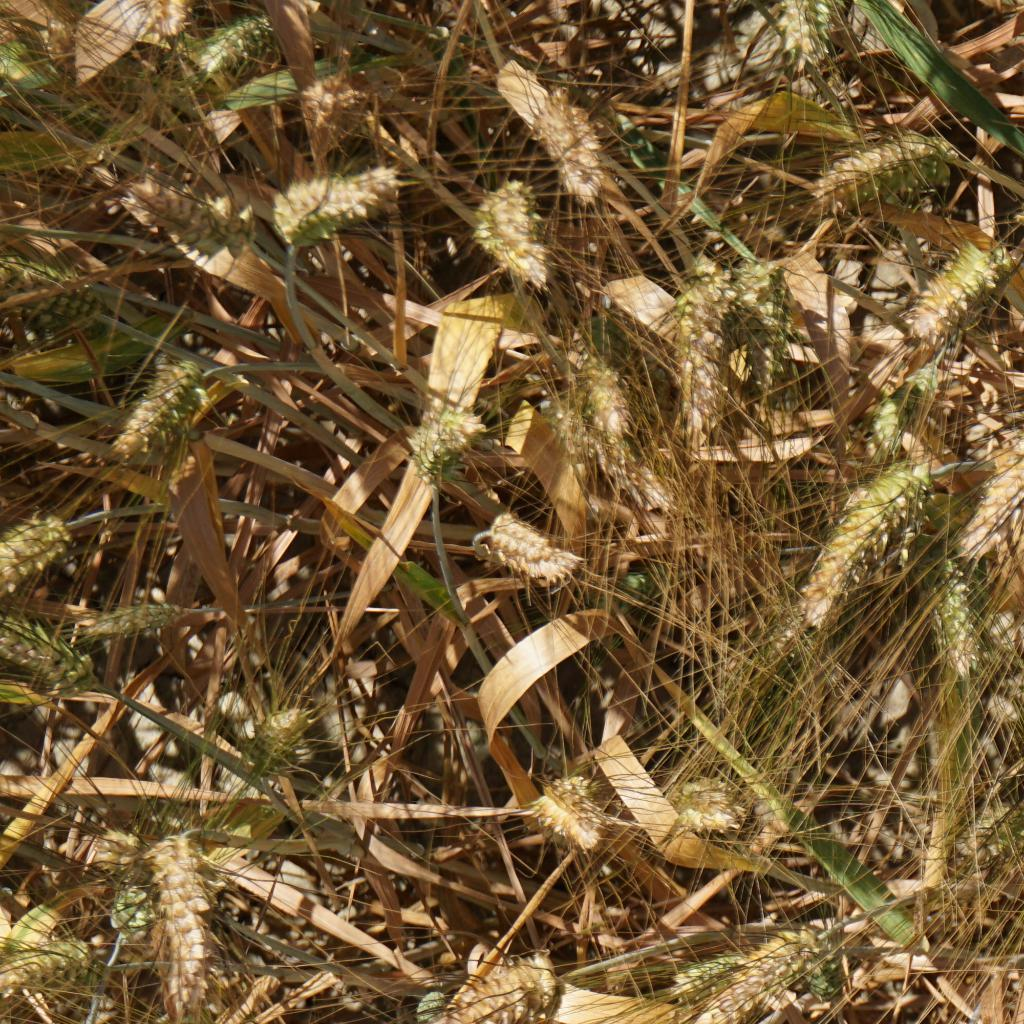0-0: (775, 451, 931, 620), (134, 828, 226, 994), (819, 121, 965, 206), (691, 933, 823, 1024), (854, 349, 964, 453), (104, 340, 193, 468), (391, 390, 498, 494), (527, 80, 612, 210), (665, 251, 728, 419), (269, 161, 397, 242), (464, 505, 588, 588), (381, 953, 523, 1024), (592, 421, 689, 523), (464, 175, 555, 283), (976, 342, 1024, 545), (468, 943, 580, 1024), (739, 297, 812, 421), (902, 244, 1000, 336), (733, 230, 796, 372), (130, 181, 240, 258), (67, 579, 204, 640), (529, 754, 614, 852), (936, 795, 1024, 882), (0, 261, 128, 318), (2, 614, 96, 691), (555, 336, 628, 429), (925, 561, 984, 673), (181, 15, 279, 82), (291, 68, 375, 146), (673, 770, 765, 838), (238, 705, 325, 775), (0, 940, 92, 1006), (785, 6, 850, 96), (0, 516, 70, 590), (789, 907, 850, 990), (39, 9, 88, 91), (102, 878, 153, 951), (669, 949, 734, 994), (1004, 169, 1024, 249)
